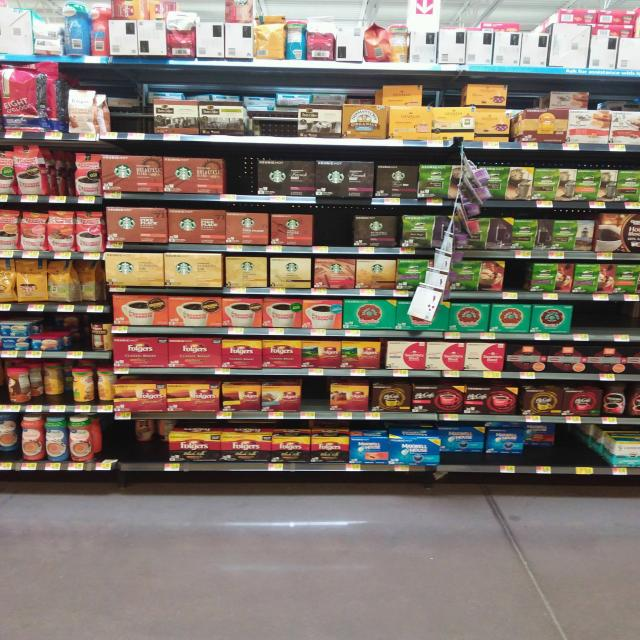void: (114, 85, 150, 140), (562, 426, 601, 473), (255, 93, 291, 143), (100, 418, 132, 471), (604, 301, 638, 342), (228, 151, 254, 203), (573, 302, 603, 343), (322, 206, 346, 255), (301, 374, 326, 420), (507, 259, 531, 299)
